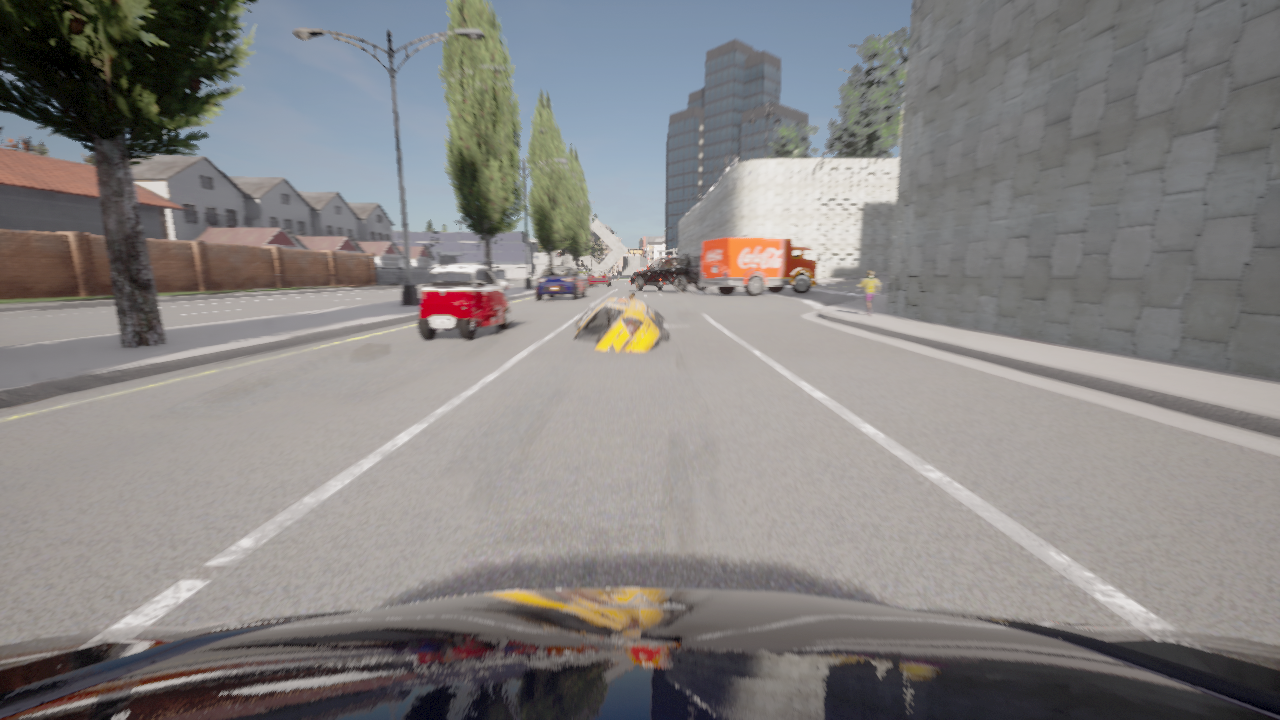cyclist: (0, 588, 1279, 719), (700, 237, 820, 296), (418, 264, 510, 339), (574, 292, 670, 351), (629, 255, 707, 292), (536, 266, 586, 301), (587, 270, 611, 287)
pedestrian: (859, 270, 879, 316)
